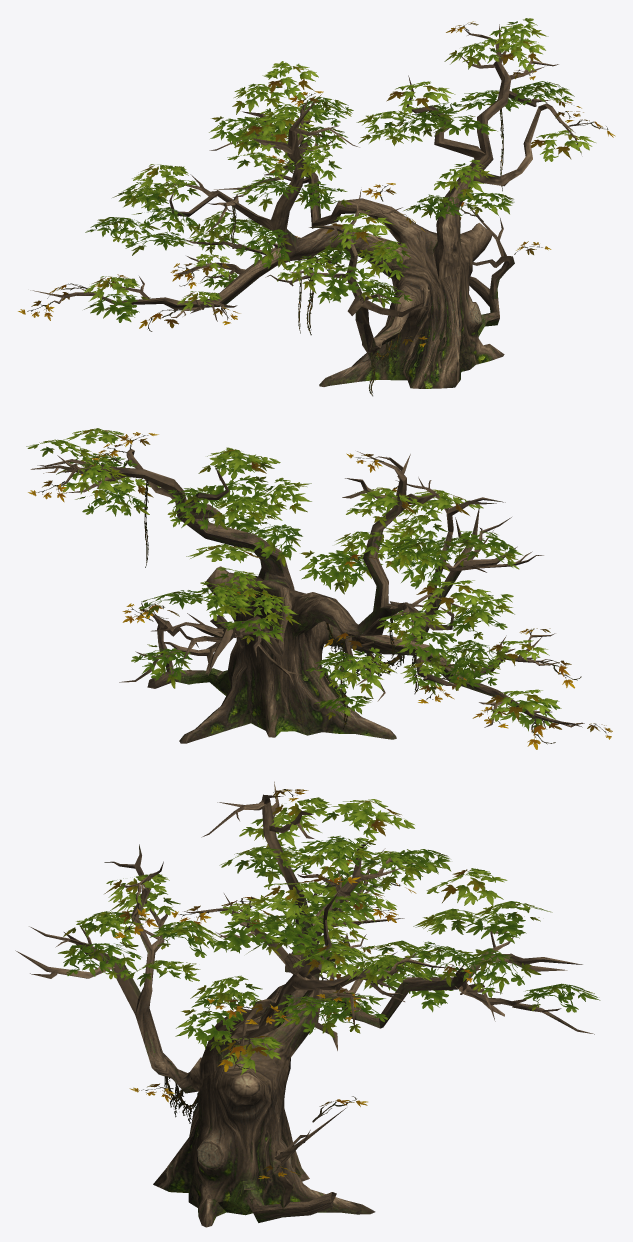
Rendered from xl_shu_2.FBX.
3 renders of one model, top to bottom at view 1: azimuth 30°, elevation 25°; view 2: azimuth 150°, elevation 25°; view 3: azimuth 270°, elevation 25°, orthographic. The views are drawn at different scales.
Parts seen in each view (by area): view 1: xl_shu_2; view 2: xl_shu_2; view 3: xl_shu_2.
Boxes of the visible parts, box(x1,y1,x2,y2) form: xl_shu_2: box(18, 18, 615, 396); xl_shu_2: box(26, 428, 612, 749); xl_shu_2: box(15, 781, 600, 1227).
Size of the model in its own units: 2544 by 1231 by 1980.
